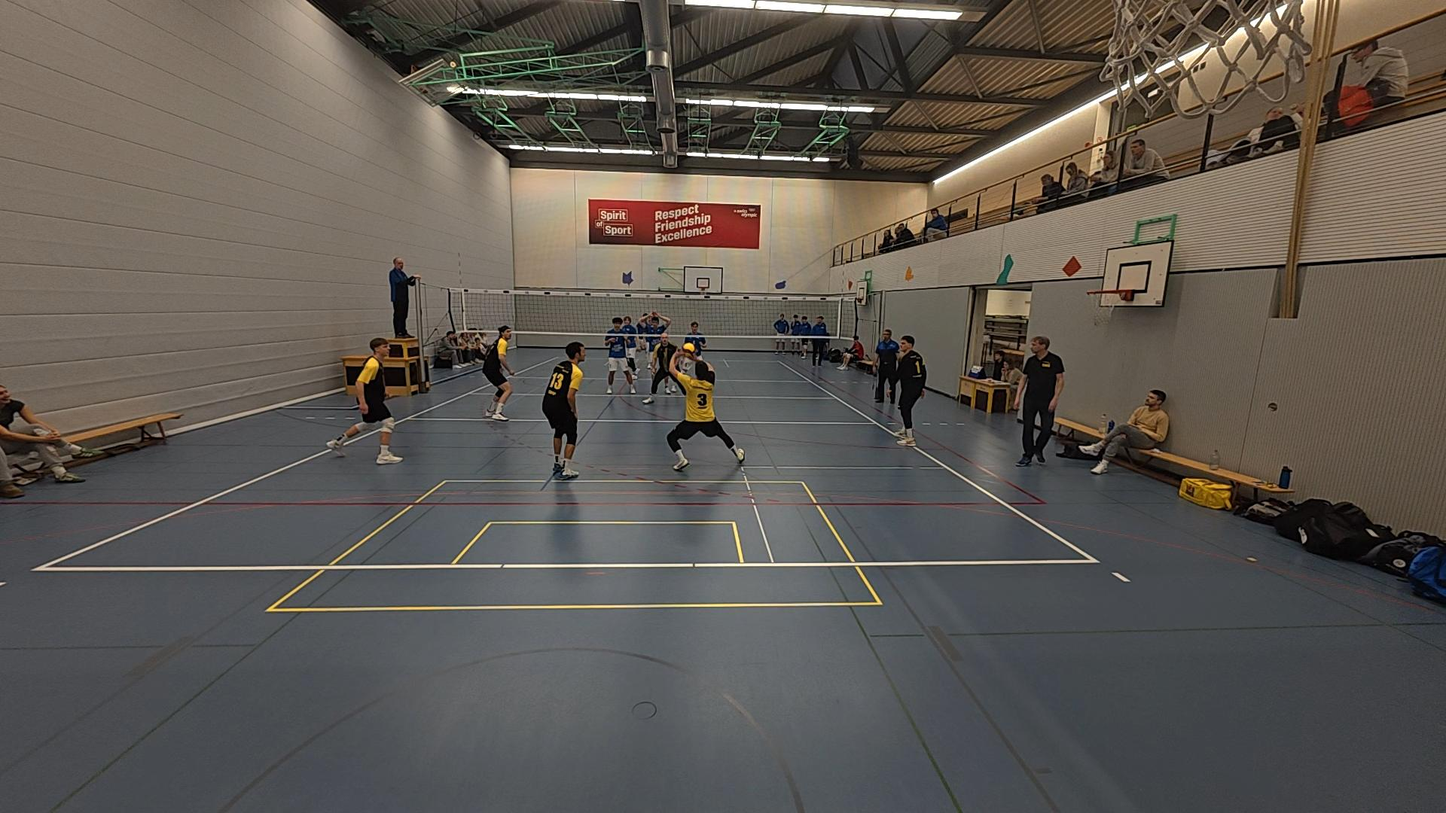ricezione: (646, 349, 747, 471)
